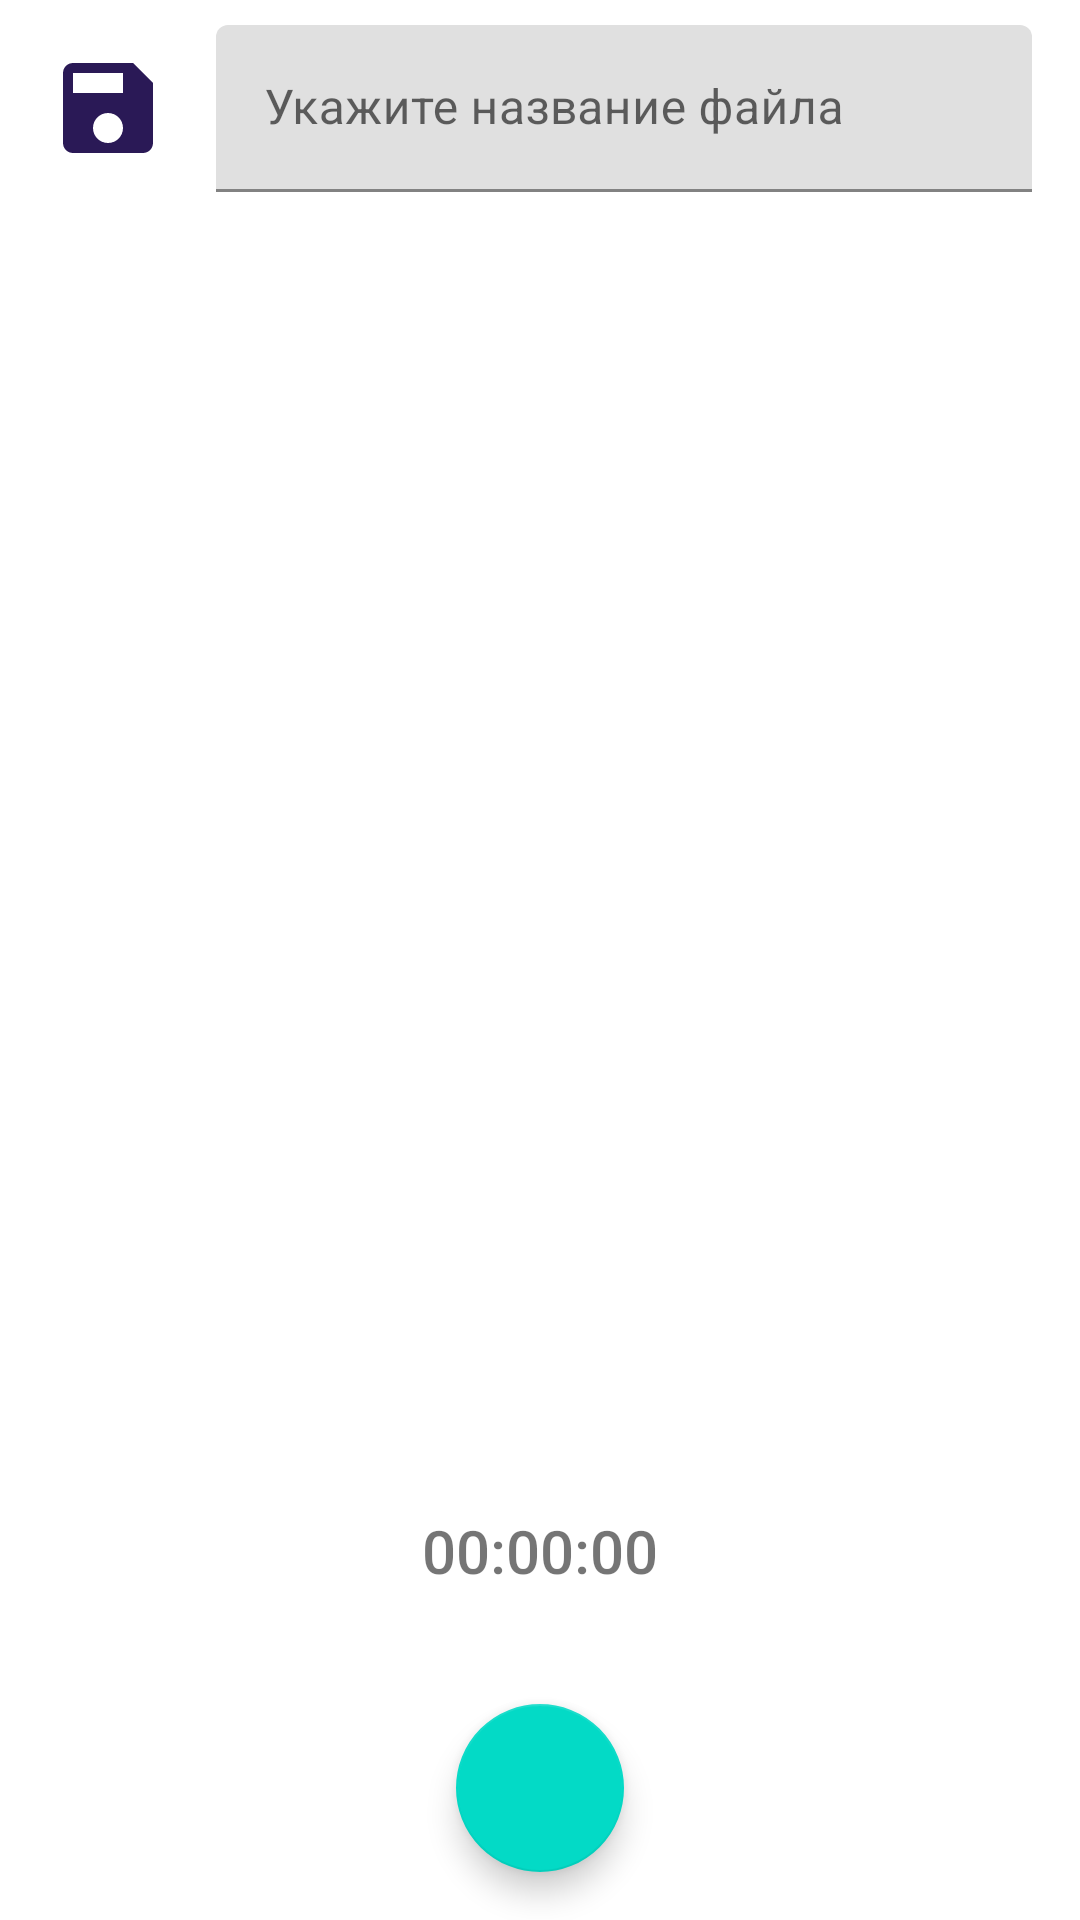

Named icons in this screenshot (1080×1920) and their bounding boxes, (x1, y1, x2, y2):
save: (63, 63, 153, 153)
